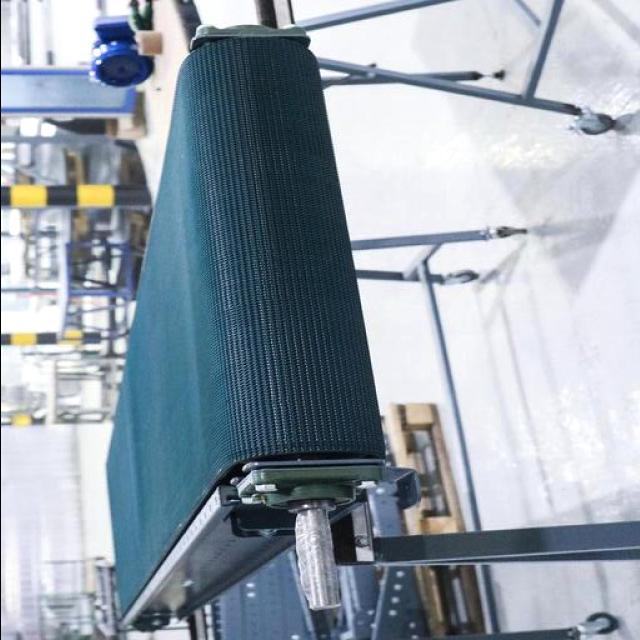conveyor: (105, 41, 386, 622)
